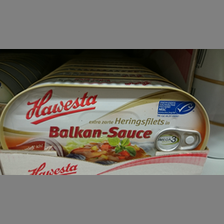fish: (1, 81, 211, 160)
